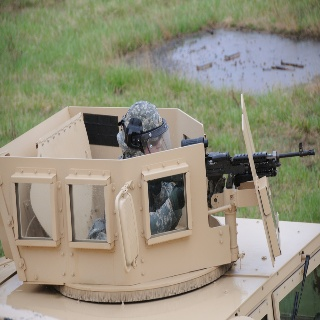rifle: (180, 136, 316, 194)
